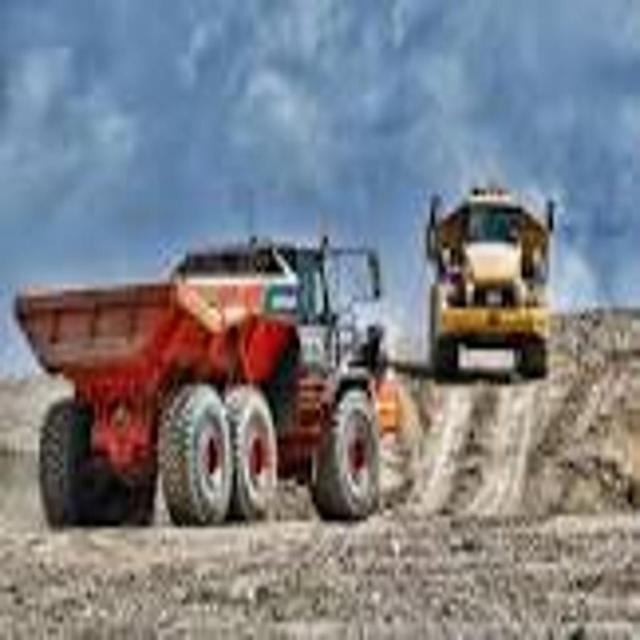dump_truck: (6, 225, 397, 537), (421, 165, 569, 393)
